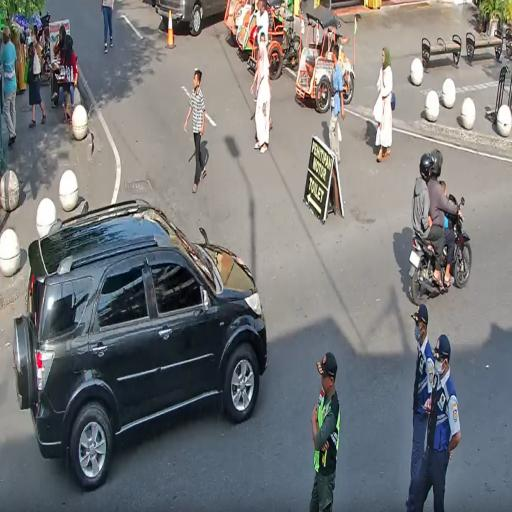mobil: (15, 200, 268, 494)
motor: (409, 185, 473, 324)
